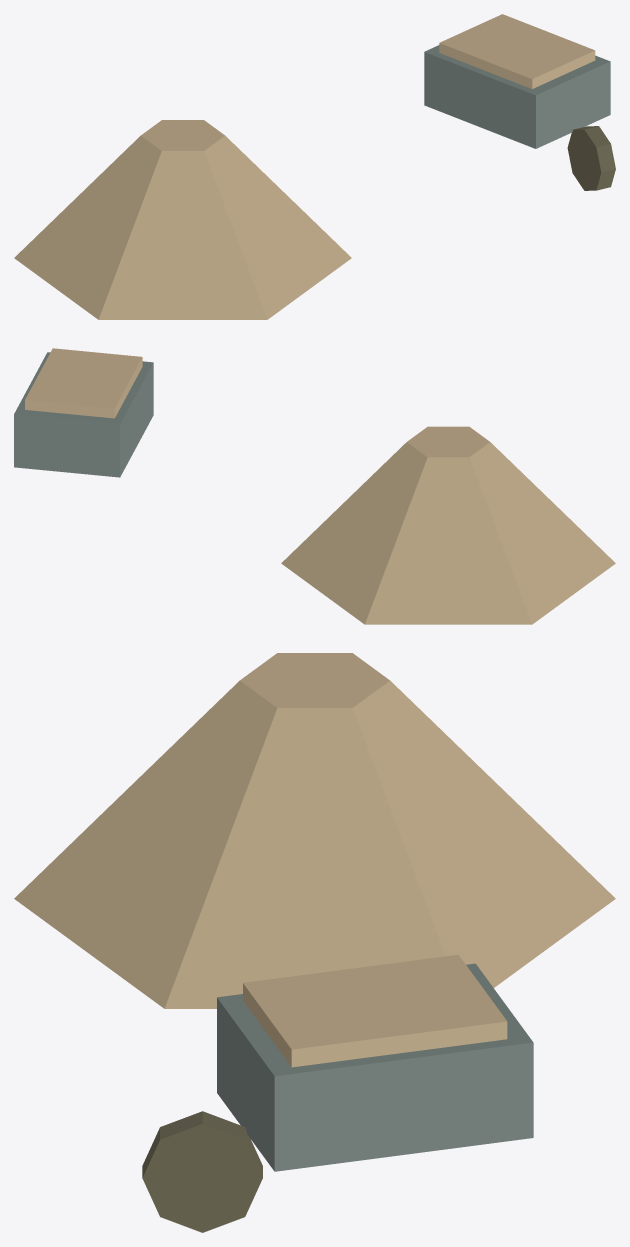
File: SM_ObraHerramientas_v0_8m_LOD1.fbx
The picture shows the model from 3 angles, top to bottom: view 1: azimuth 30°, elevation 25°; view 2: azimuth 150°, elevation 25°; view 3: azimuth 270°, elevation 25°; orthographic projection. The views are drawn at different scales.
Parts seen in each view (by area): view 1: SM_obra_curso_v10_LOD1; view 2: SM_obra_curso_v10_LOD1; view 3: SM_obra_curso_v10_LOD1.
Part boxes in pixels (<box>): SM_obra_curso_v10_LOD1: <box>14,14,615,319</box>; SM_obra_curso_v10_LOD1: <box>14,348,615,624</box>; SM_obra_curso_v10_LOD1: <box>14,653,615,1232</box>.
Size of the model in its own units: 3.71 by 0.8 by 2.
